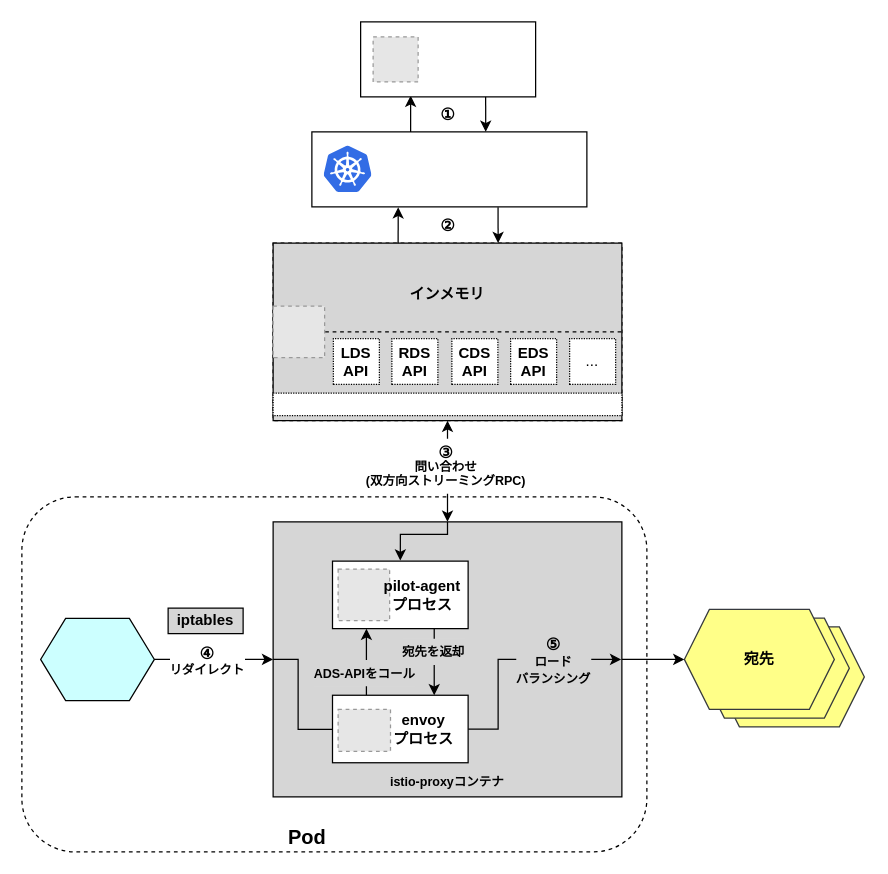
The diagram is 888 pixels wide and 874 high, and some of its shapes have lost their labels. Grey dashed boxes stand in for pictures. The box of each missing label's shape, as (x1, y1, x2, y2) in pixels:
ADS-API: (272, 392, 622, 416)
etcd など: (359, 21, 536, 97)
kube-apiserver: (311, 131, 587, 207)
送信元: (39, 617, 154, 700)
